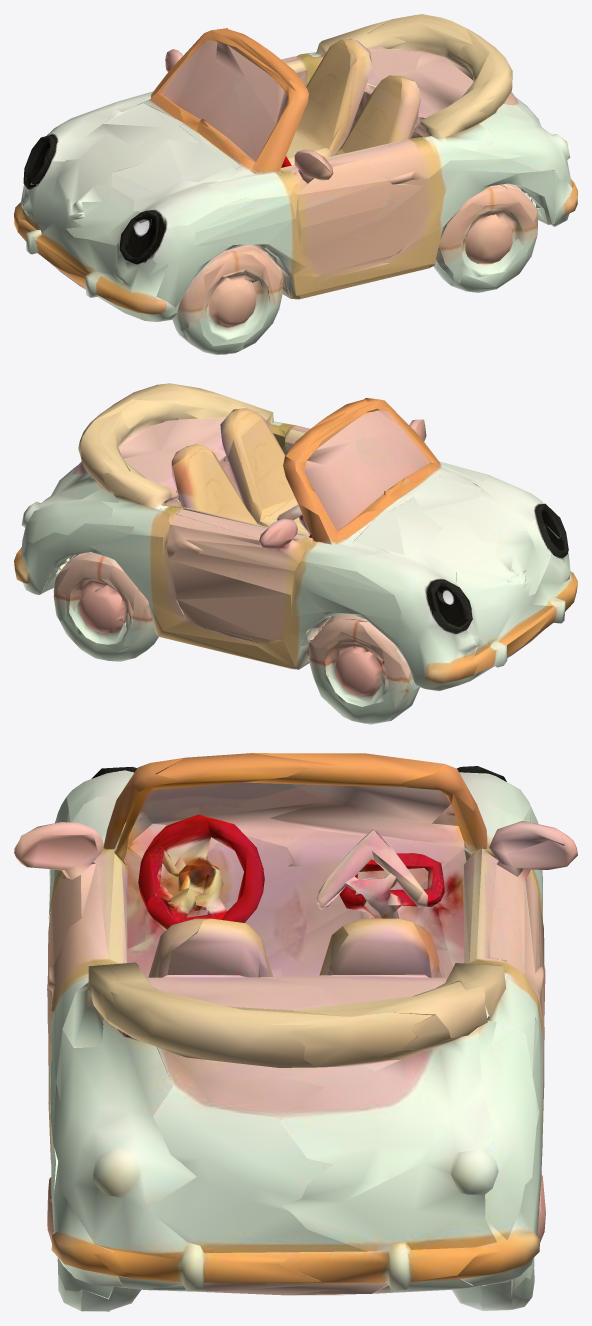
File: lp_prop_cabrio.glb
3 views of the same model, one above another, from view 1: azimuth 30°, elevation 25°; view 2: azimuth 150°, elevation 25°; view 3: azimuth 270°, elevation 25° (orthographic). The views are drawn at different scales.
Visible parts, largest first — view 1: cabrio; view 2: cabrio; view 3: cabrio.
Boxes of the visible parts, x1,y1,x2,y2 form: cabrio: (14,14,577,354); cabrio: (14,383,577,724); cabrio: (14,753,577,1311).
Bounding box in the file's own units: 1.4 × 0.6586 × 0.8209.
Materials: 1 (1 with a texture image).
